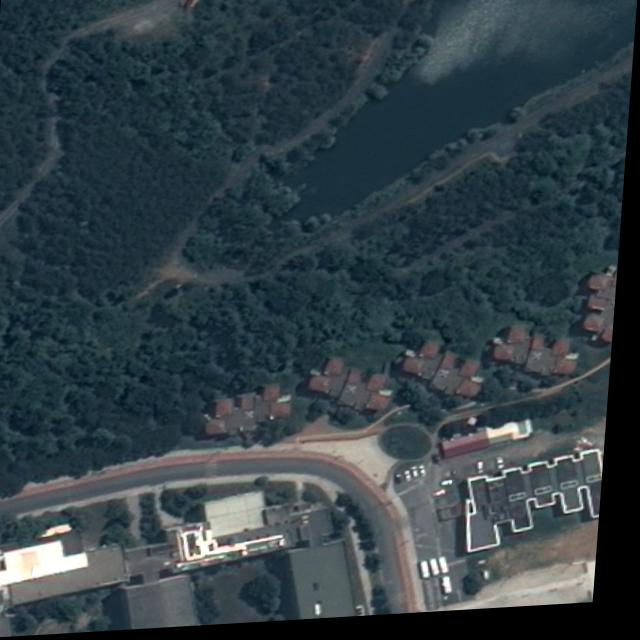Batiment: (471, 457, 610, 558), (184, 494, 343, 572), (17, 548, 135, 606), (299, 548, 363, 623), (134, 579, 207, 632)
